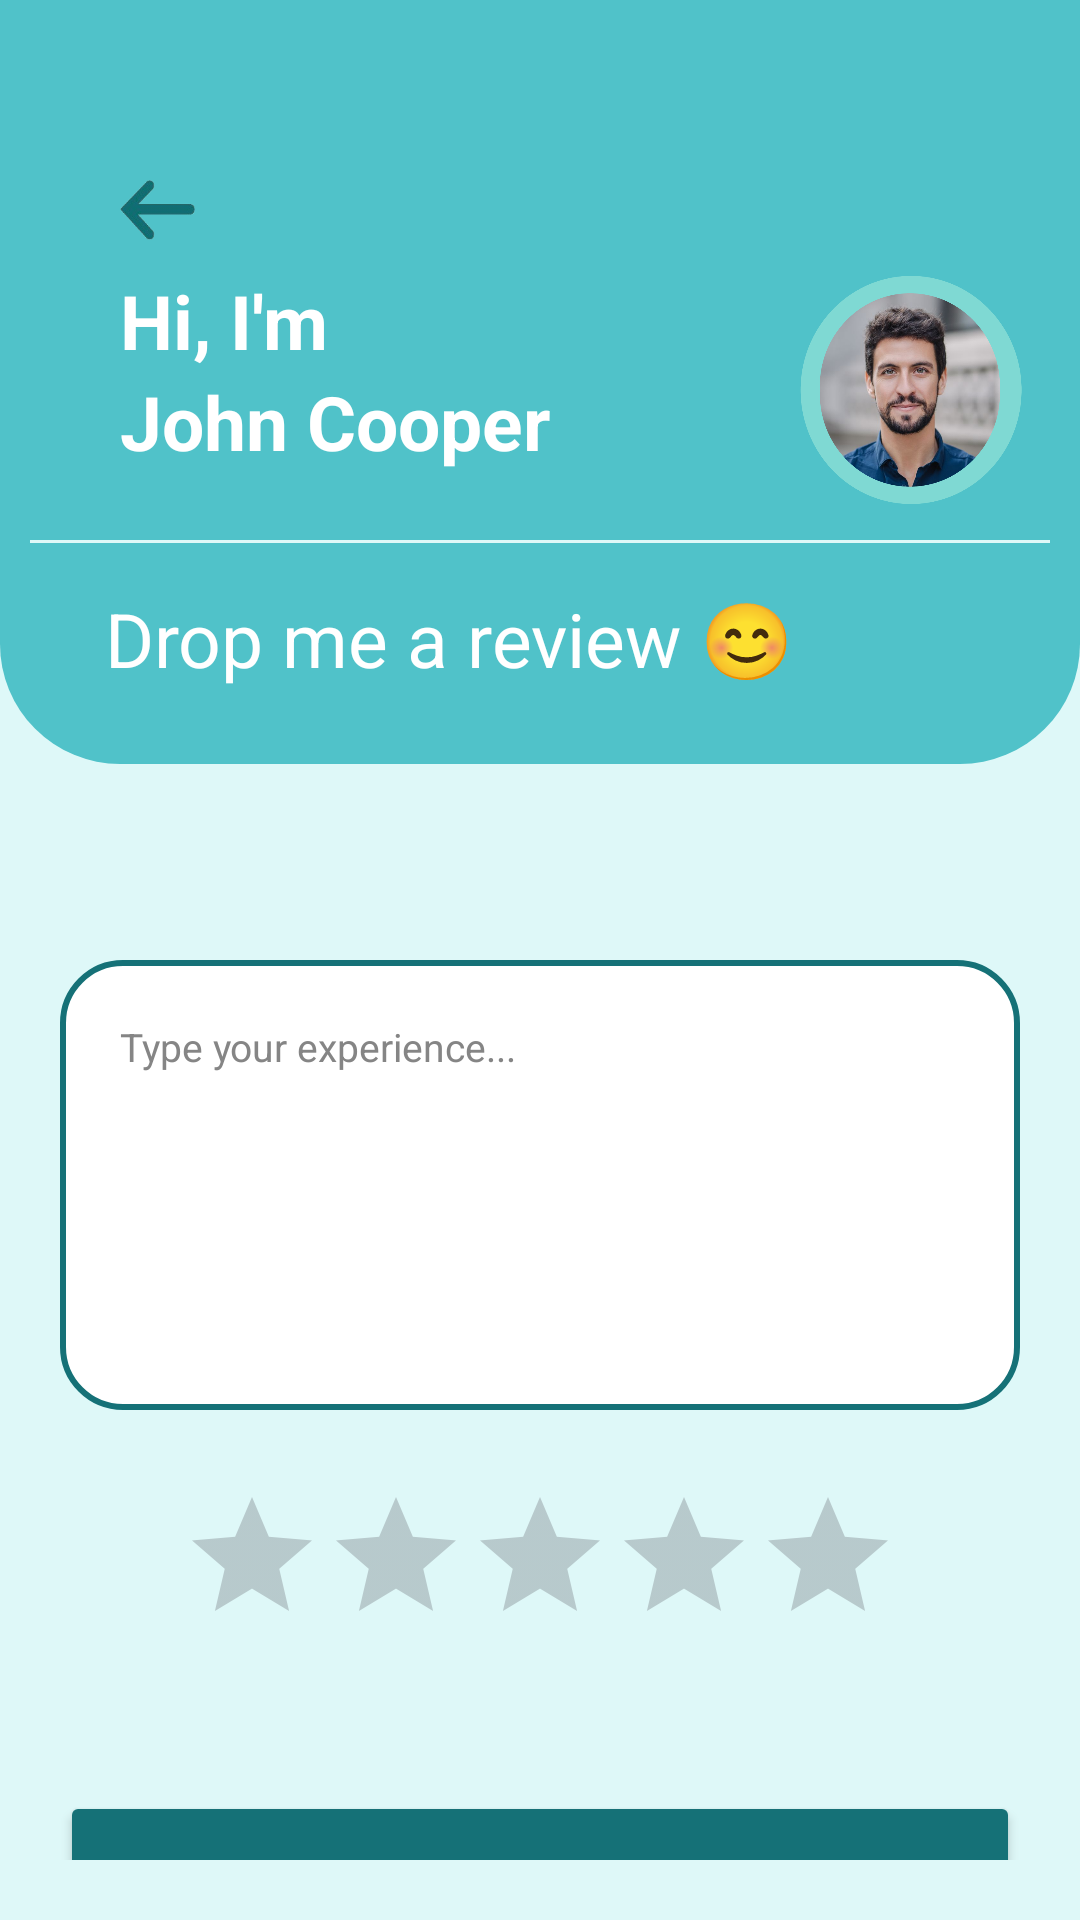

Icon bounding boxes for this 1080px×1920px phone screenshot, format (x1, y1, x2, y2):
back arrow: (120, 180, 195, 239)
mentor profile picture: (801, 276, 1022, 504)
